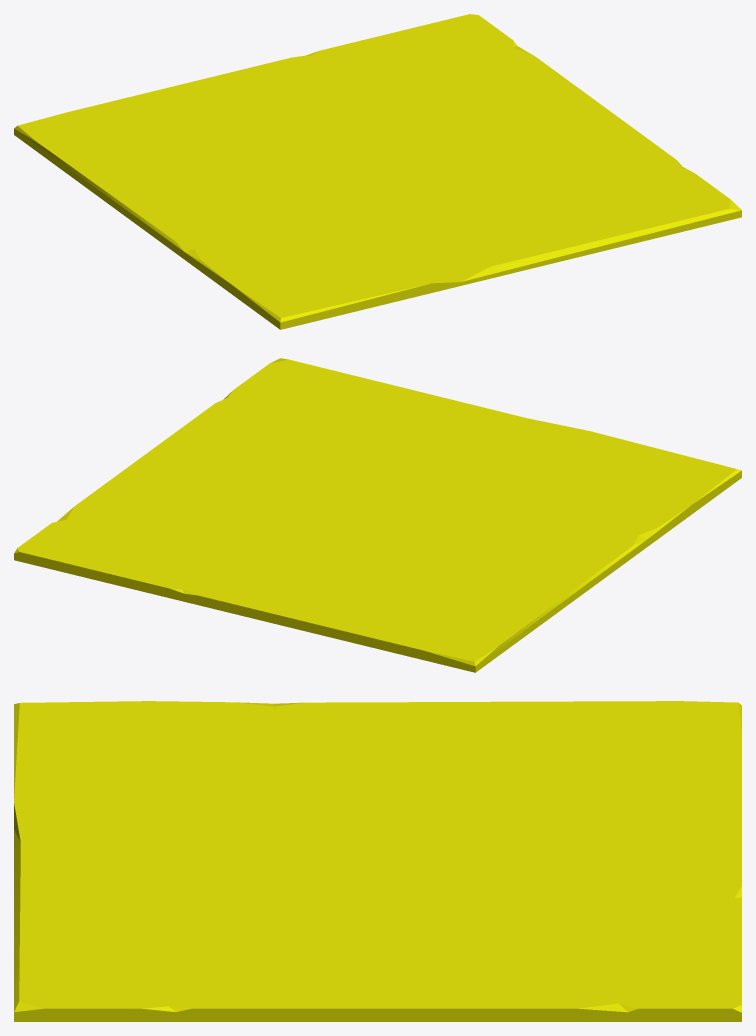
Rendered from SM_PolygonPrototype_Buildings_Floor_5x5_01P.glb.
3 renders of one model, top to bottom at view 1: azimuth 30°, elevation 25°; view 2: azimuth 150°, elevation 25°; view 3: azimuth 270°, elevation 25°, orthographic. The views are drawn at different scales.
Parts seen in each view (by area): view 1: SM_PolygonPrototype_Buildings_Floor_5x5_01P; view 2: SM_PolygonPrototype_Buildings_Floor_5x5_01P; view 3: SM_PolygonPrototype_Buildings_Floor_5x5_01P.
Boxes of the visible parts, bbox=[...] form: SM_PolygonPrototype_Buildings_Floor_5x5_01P: bbox=[14, 14, 741, 329]; SM_PolygonPrototype_Buildings_Floor_5x5_01P: bbox=[14, 358, 741, 672]; SM_PolygonPrototype_Buildings_Floor_5x5_01P: bbox=[14, 701, 741, 1021].
Size of the model in its own units: 5 by 0.1 by 5.
1 material, 1 textured.
